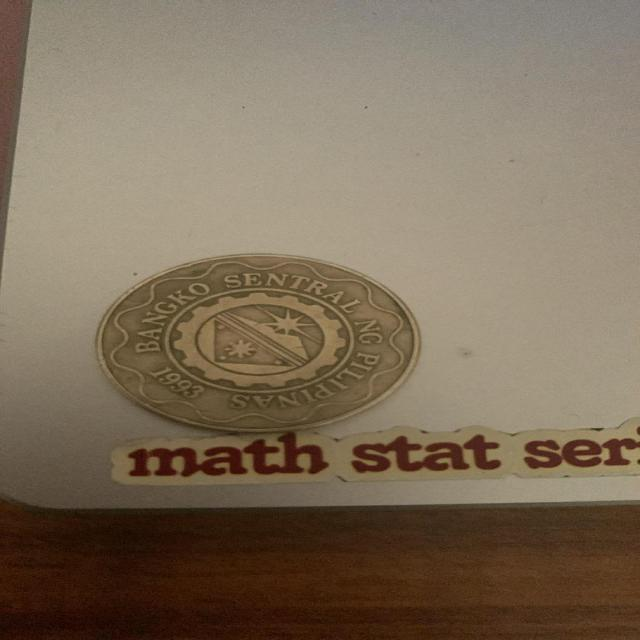5 peso-old: (83, 245, 435, 441)
